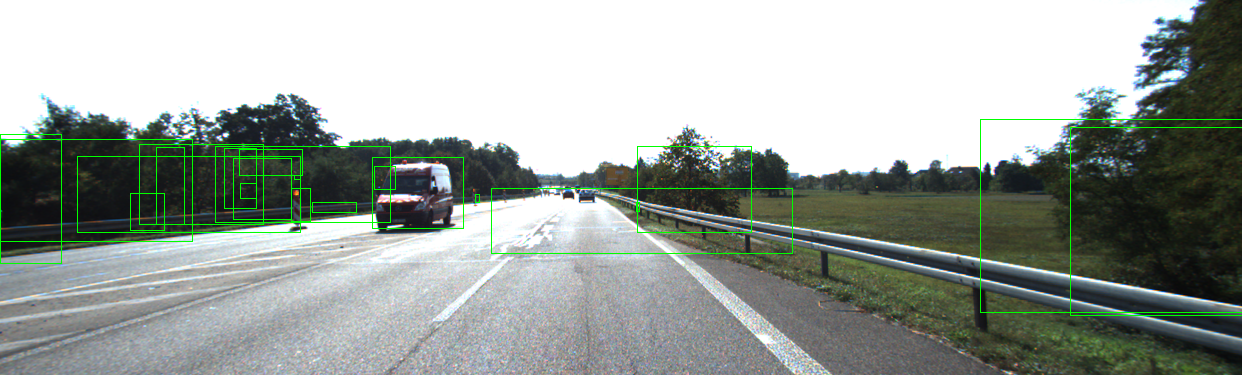car: (580, 190, 597, 203)
